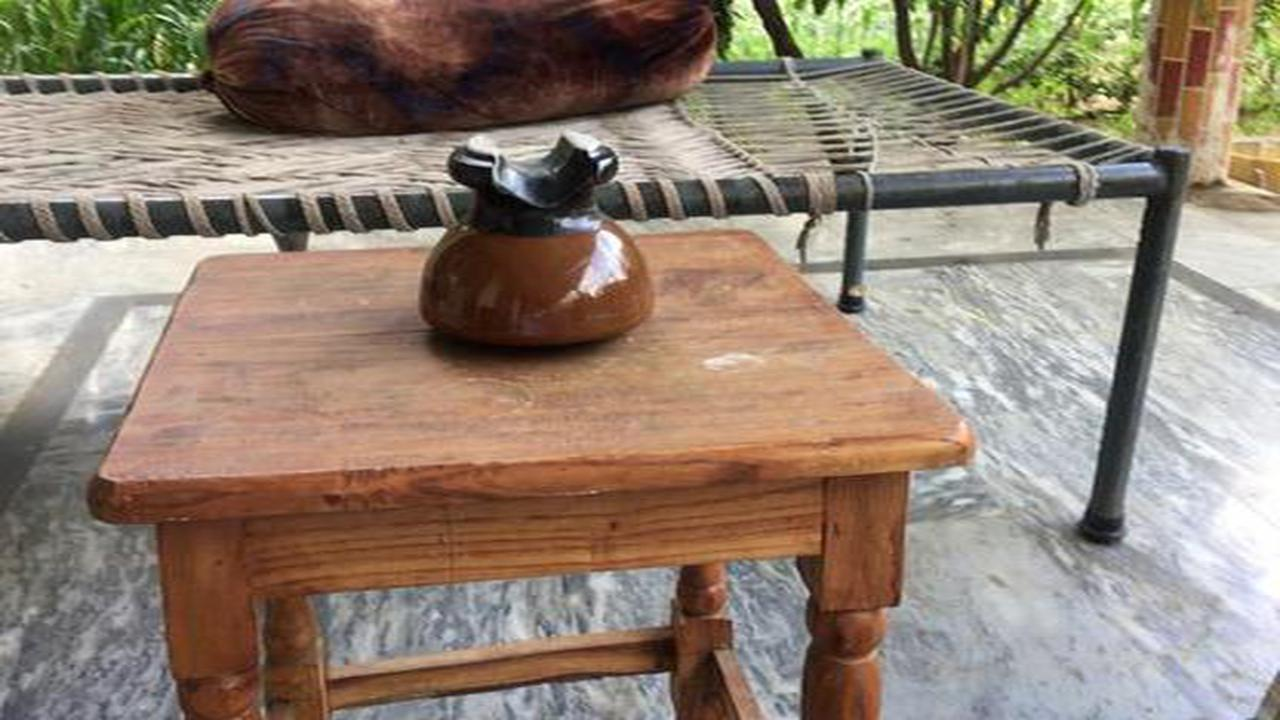insulator_pin: (407, 115, 674, 373)
